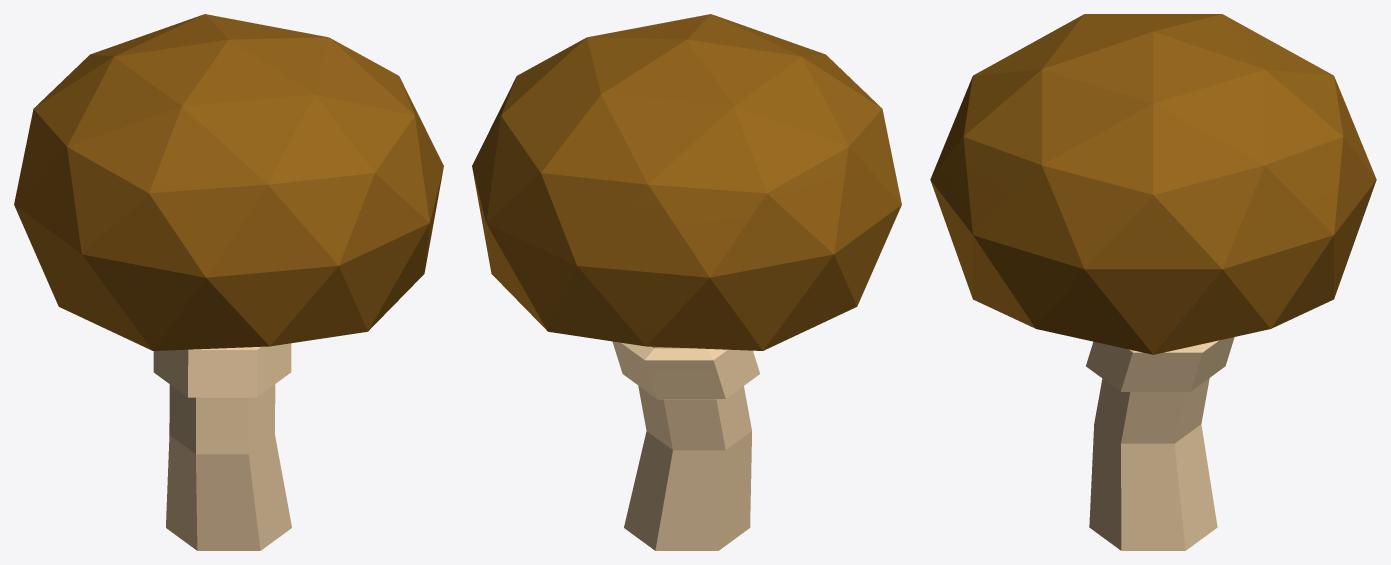
Rendered from Mushroom_02.fbx.
The picture shows the model from 3 angles, left to right: view 1: azimuth 30°, elevation 25°; view 2: azimuth 150°, elevation 25°; view 3: azimuth 270°, elevation 25°; orthographic projection.
Parts seen in each view (by area): view 1: Mushroom_02; view 2: Mushroom_02; view 3: Mushroom_02.
Boxes of the visible parts, <box> form: Mushroom_02: <box>14,14,443,550</box>; Mushroom_02: <box>472,14,901,550</box>; Mushroom_02: <box>930,14,1376,550</box>.
Bounding box in the file's own units: 38.16 × 49.17 × 40.12.
